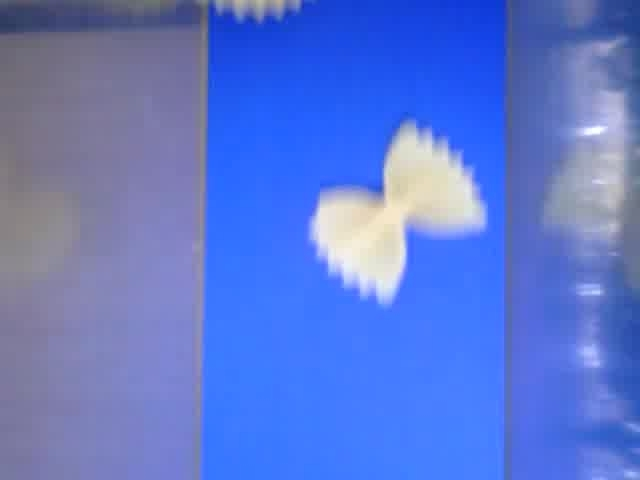farfalle: (309, 119, 487, 302)
